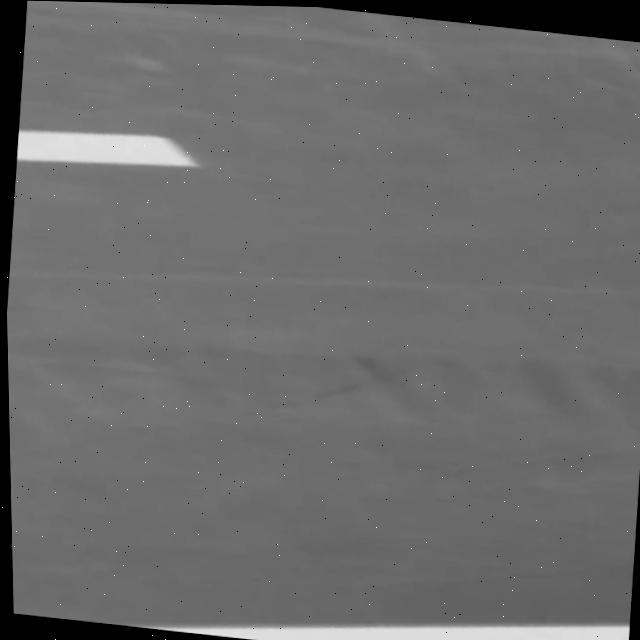center: (16, 129, 198, 165)
left: (137, 625, 629, 640)
